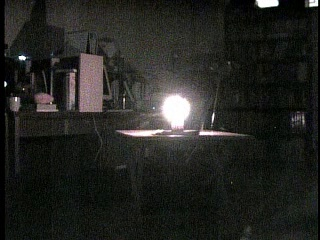fire: (158, 92, 191, 127)
